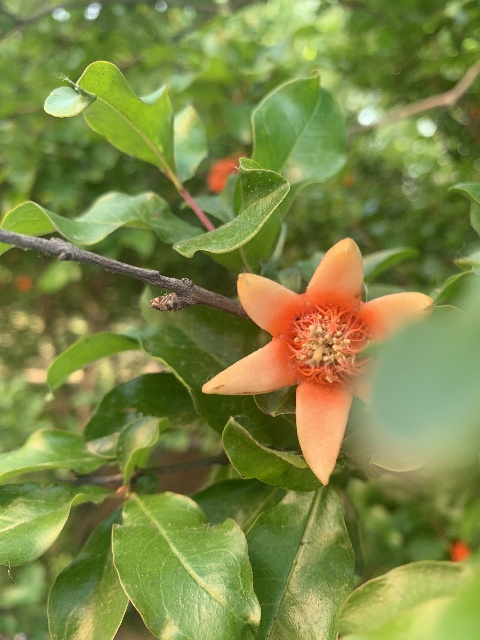flower: (203, 237, 433, 486)
